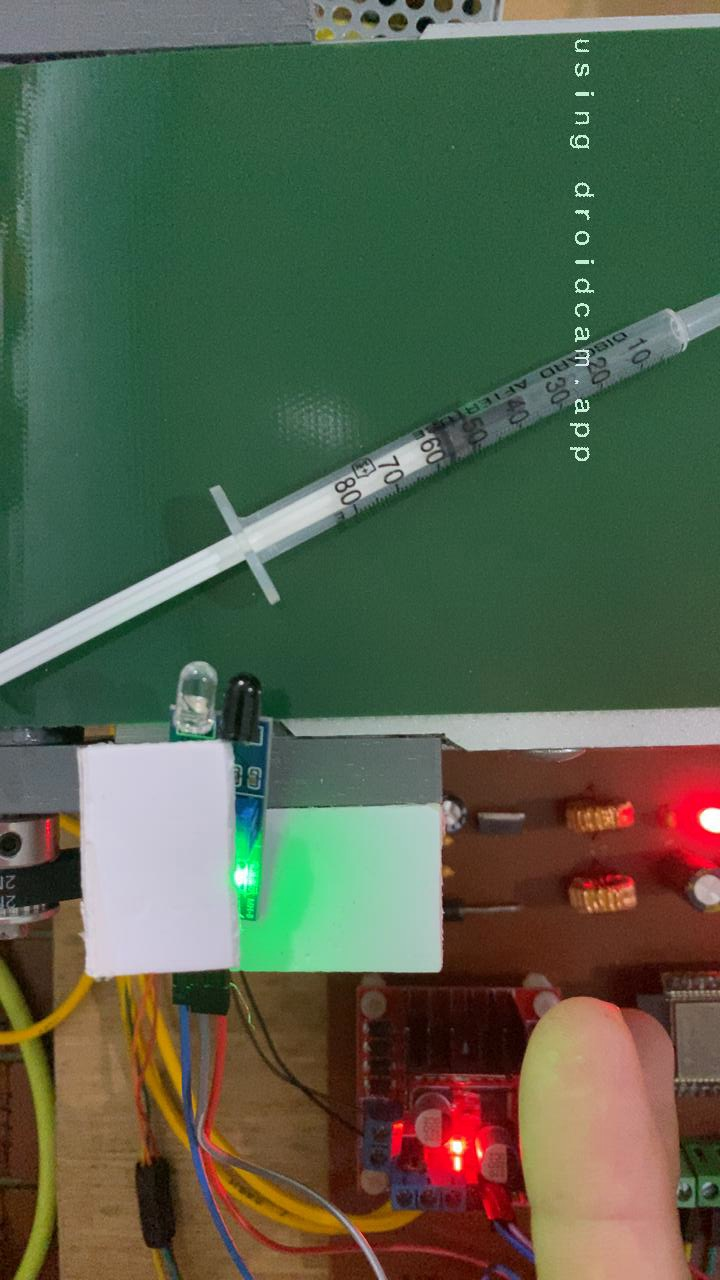syringe: (0, 413, 495, 693)
